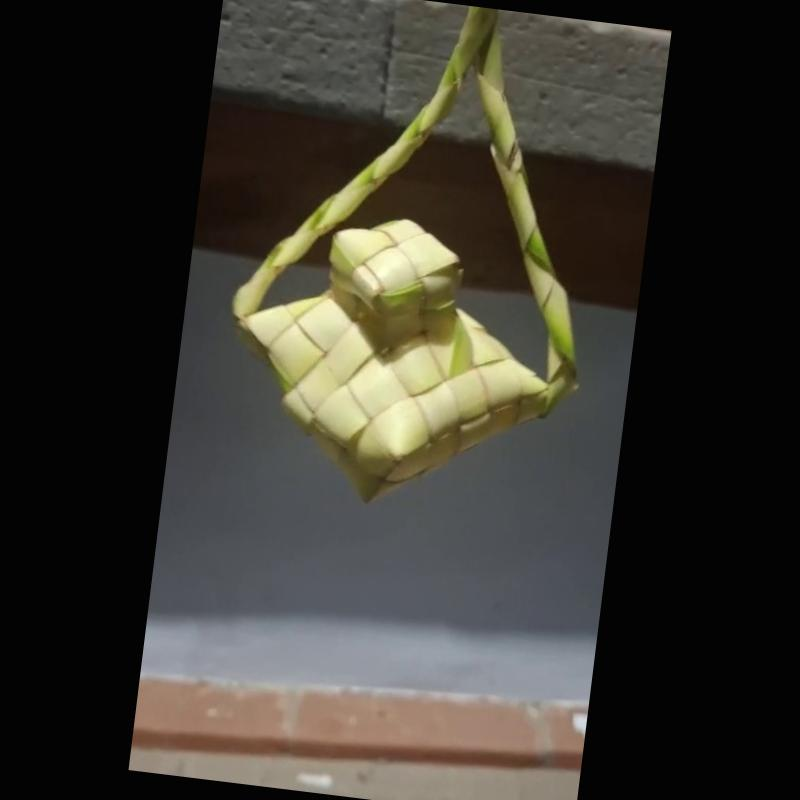Tipat Gong: (233, 6, 575, 501)
